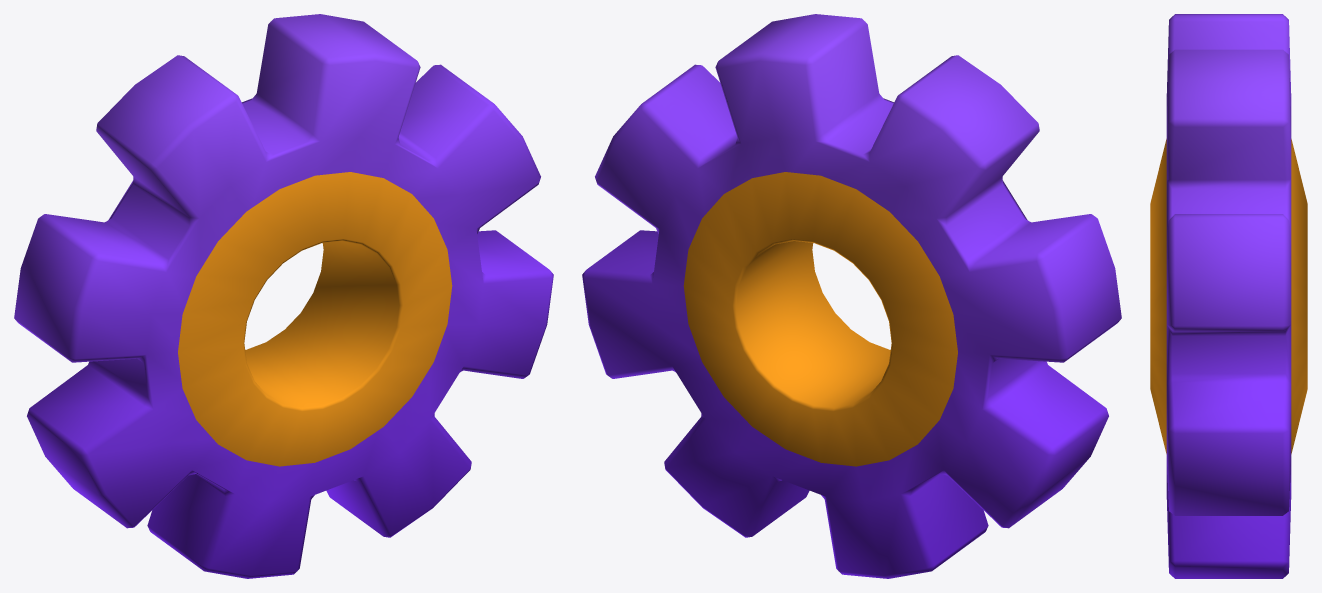
File: Collectable_Gear_01.fbx
3 renders of one model, left to right at view 1: azimuth 30°, elevation 25°; view 2: azimuth 150°, elevation 25°; view 3: azimuth 270°, elevation 25°, orthographic.
Parts seen in each view (by area): view 1: Collectable_Gear_01; view 2: Collectable_Gear_01; view 3: Collectable_Gear_01.
Boxes of the visible parts, left/top/right/bottom form: Collectable_Gear_01: left=14, top=14, right=553, bottom=578; Collectable_Gear_01: left=582, top=14, right=1121, bottom=578; Collectable_Gear_01: left=1150, top=14, right=1307, bottom=578.
Bounding box in the file's own units: 79.41 × 79.41 × 22.17.
